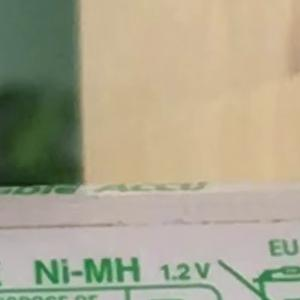keyword: (26, 249, 148, 293)
